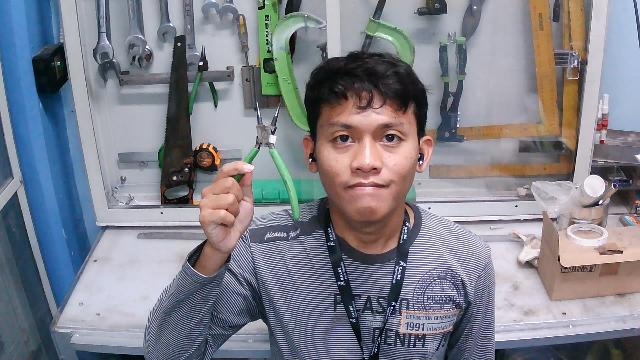tang_cucut_lancip_1: (224, 91, 308, 229)
